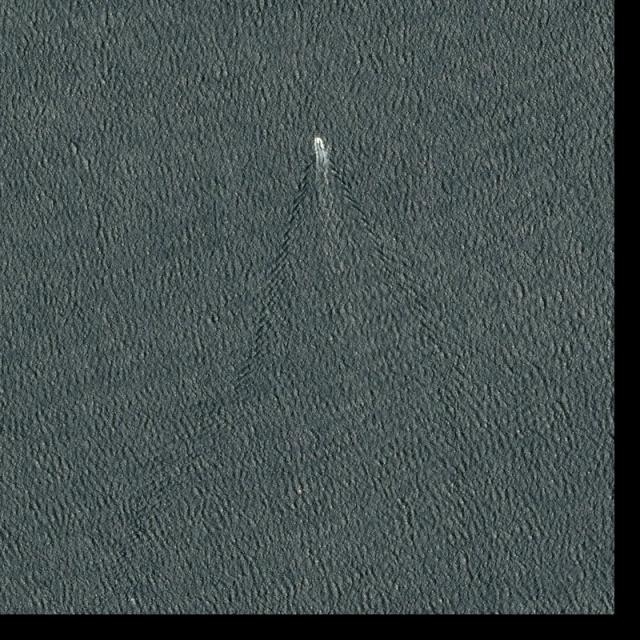ship: (317, 138, 321, 144)
